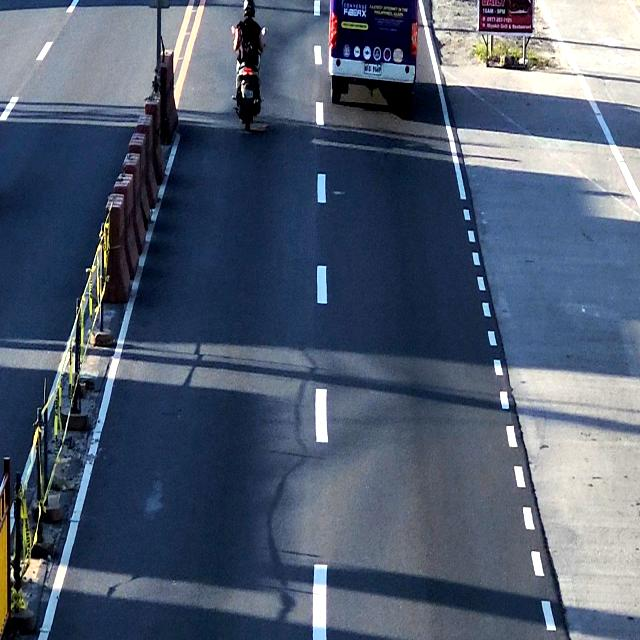Bus: (324, 0, 423, 106)
Motorcycle: (236, 0, 267, 126)
